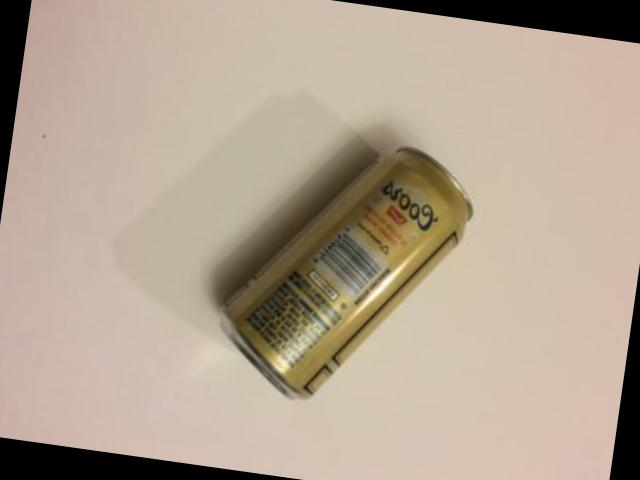metal: (224, 145, 473, 394)
